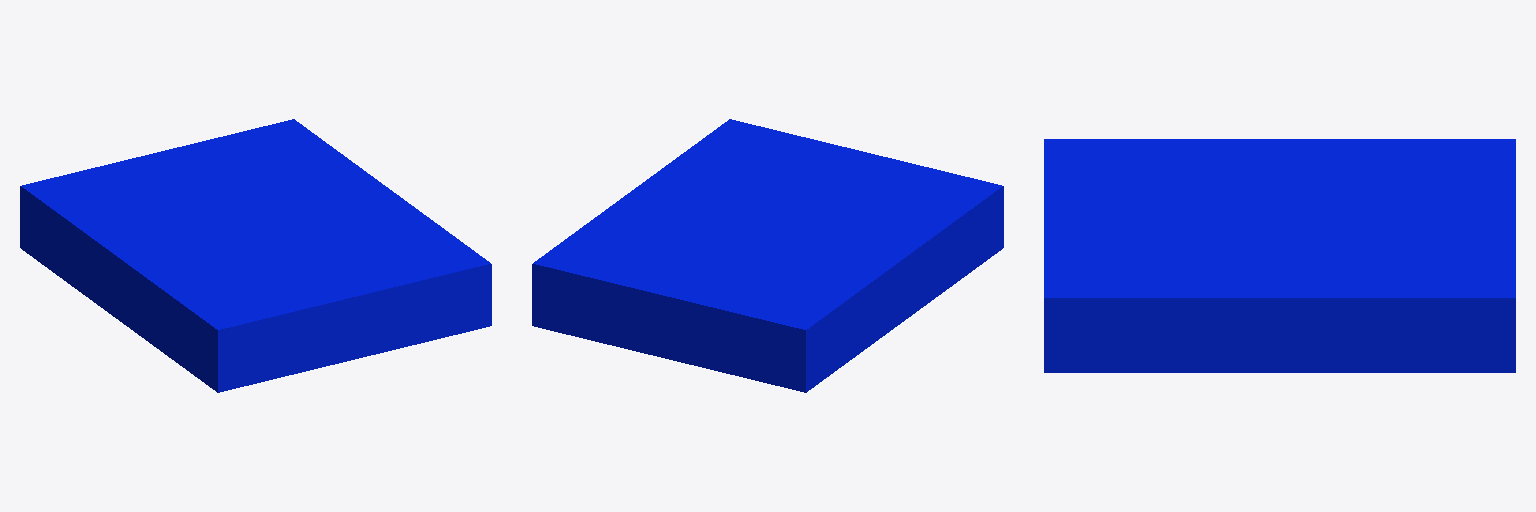
The robot description file, URDF, robot "parttoolgen_dynamic_tabletop_target":
<?xml version="1.0"?>
<robot name="parttoolgen_dynamic_tabletop_target">
  <link name="target_patch">
    <visual>
      <material name="target_patch">
        <color rgba="0.05 0.20 0.95 1.0"/>
      </material>
      <origin xyz="0 0 0"/>
      <geometry>
        <box size="0.16 0.2 0.035"/>
      </geometry>
    </visual>
    <collision>
      <origin xyz="0 0 0"/>
      <geometry>
        <box size="0.16 0.2 0.035"/>
      </geometry>
    </collision>
    <inertial>
      <mass value="0.001"/>
      <inertia ixx="3.4354166666666673e-06" ixy="0.0" ixz="0.0" iyy="2.235416666666667e-06" iyz="0.0" izz="5.466666666666667e-06"/>
    </inertial>
  </link>
</robot>

--- What the picture shows (computed from the rendered views, not written in the file) ---
3 views of the same robot in one strip: view 1: azimuth 30°, elevation 25°; view 2: azimuth 150°, elevation 25°; view 3: azimuth 270°, elevation 25° (orthographic).
Robot: parttoolgen_dynamic_tabletop_target — 1 links, 0 joints (none); root link target_patch; default pose: all joints at 0.
Visible links, largest first — view 1: target_patch; view 2: target_patch; view 3: target_patch.
Boxes of the visible links, x1,y1,x2,y2 form: target_patch: [20, 119, 491, 392]; target_patch: [532, 119, 1003, 392]; target_patch: [1044, 139, 1515, 372].
Size in the robot's own frame: 0.16 by 0.2 by 0.035 metres.
Geometry: primitives only (box / cylinder / sphere), no mesh files.
